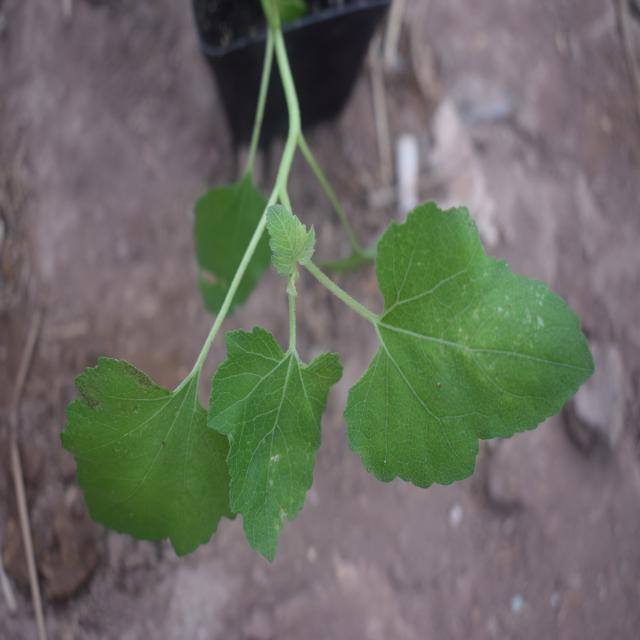cocklebur: (45, 181, 582, 556)
